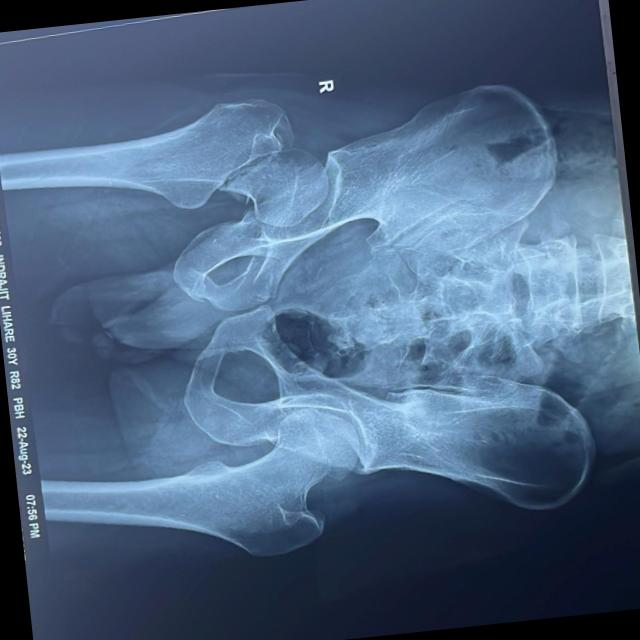normal-left: (127, 408, 359, 557)
right-neck: (102, 99, 293, 209), (217, 149, 327, 227)
